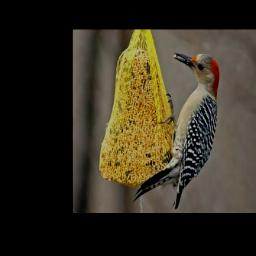Woodpecker: (129, 46, 232, 207)
